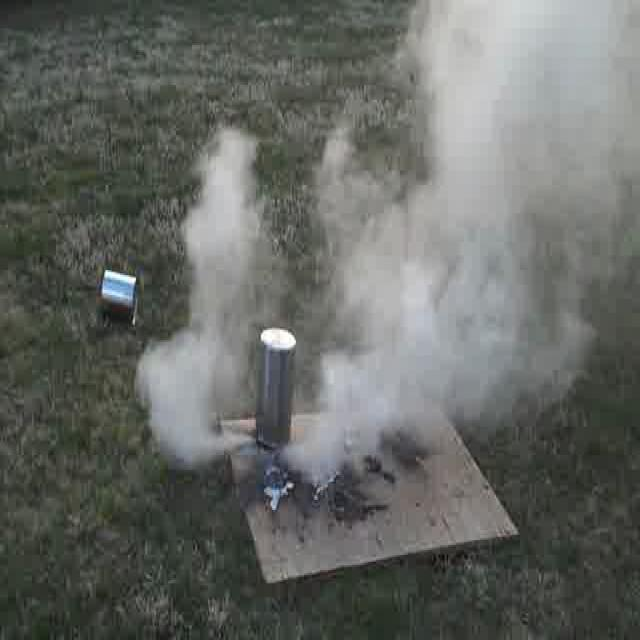Smoke: (325, 0, 637, 453), (136, 338, 232, 464), (190, 147, 256, 306)
